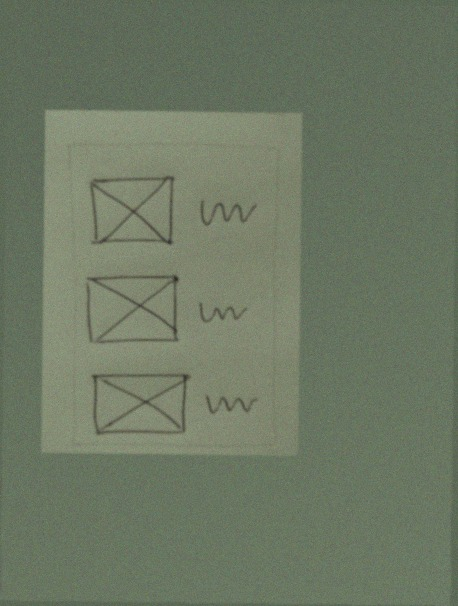image: (81, 270, 184, 350), (84, 368, 194, 440), (84, 173, 178, 254)
text: (195, 192, 259, 235), (204, 390, 264, 427), (198, 297, 252, 331)
